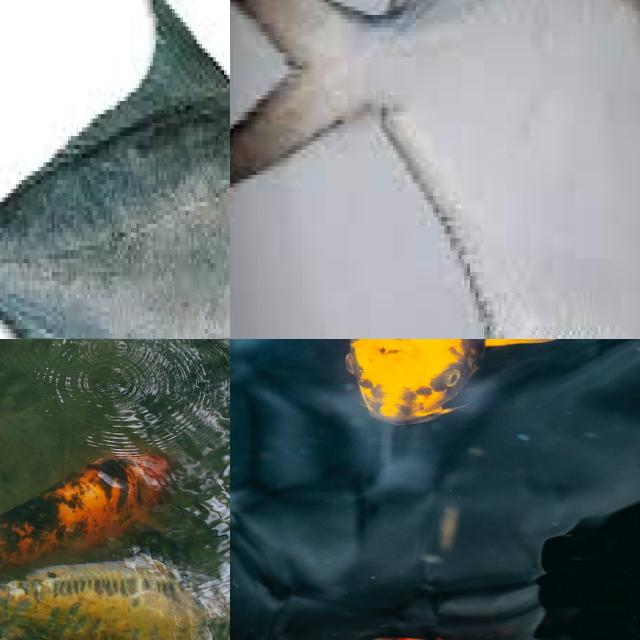fish: (230, 0, 640, 339), (230, 339, 640, 550), (0, 0, 230, 339), (0, 339, 230, 640)
